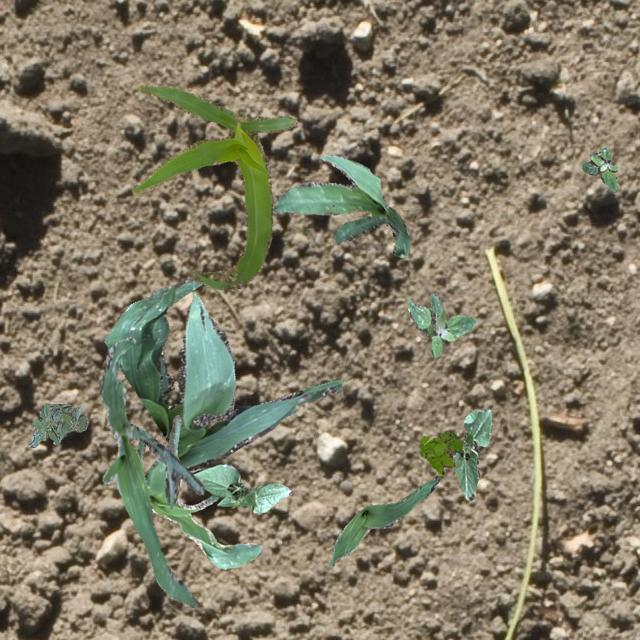crop: (102, 276, 340, 469), (132, 84, 296, 288), (98, 334, 204, 606), (136, 413, 260, 568), (271, 154, 408, 256), (328, 476, 438, 566), (190, 462, 290, 514), (452, 408, 492, 498)
weed: (406, 292, 476, 356), (28, 402, 88, 447), (419, 429, 462, 474), (580, 146, 616, 190)
